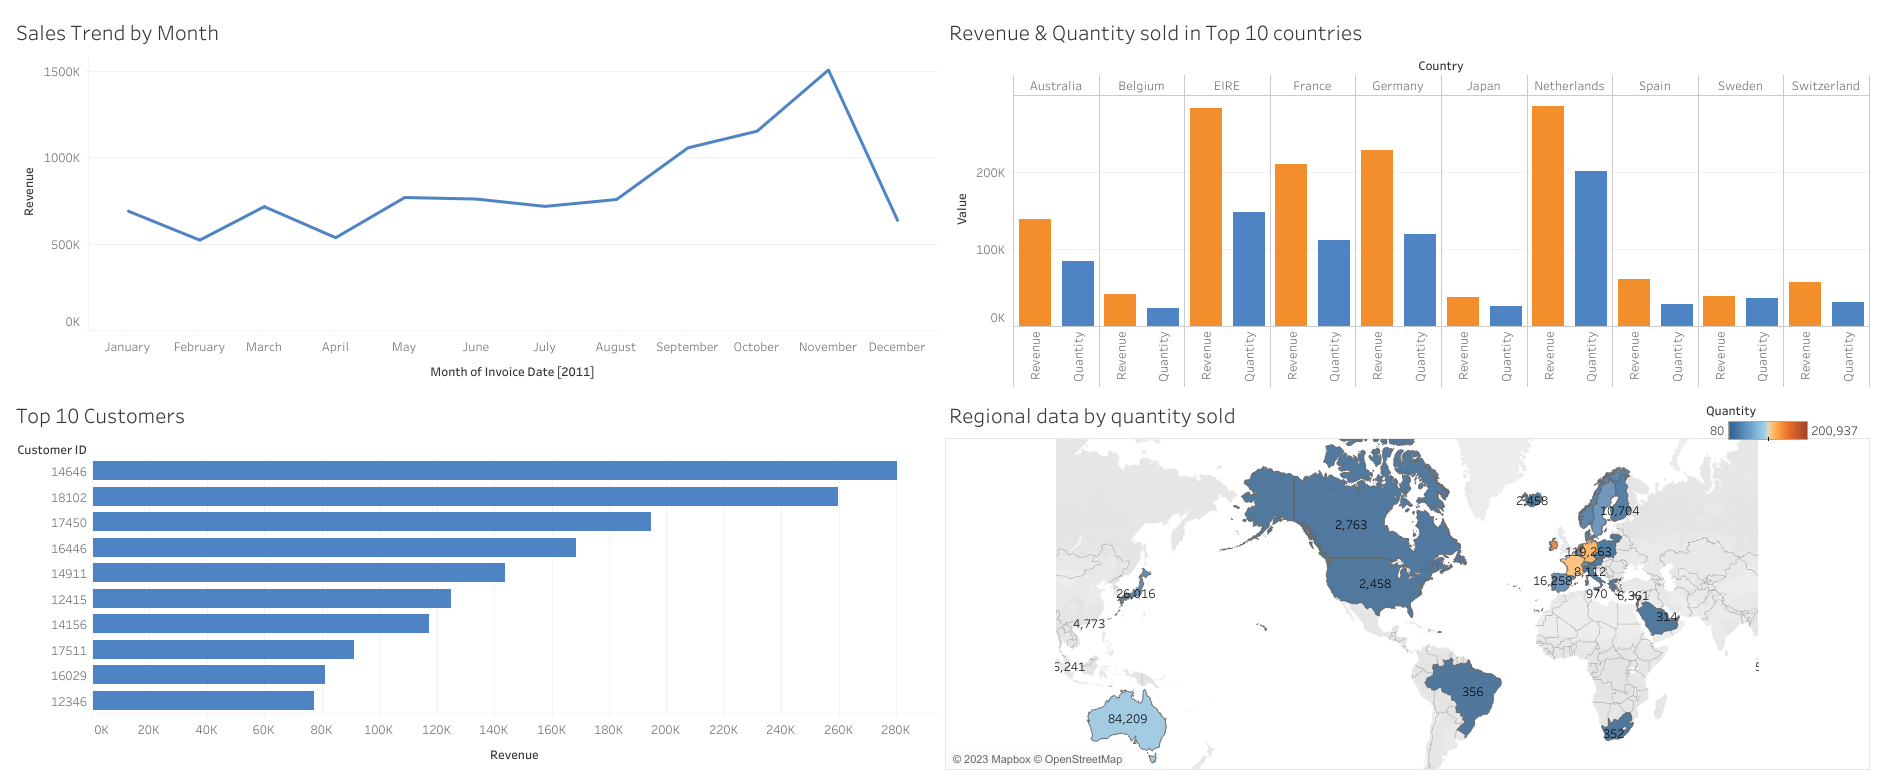

The dashboard page shown, as its layout file describes it:
{"tool":"tableau","page":{"name":"Dashboard 1","canvas":[1000,1000],"units":"permille","ordinal":0},"visuals":[{"type":"worksheet","title":"Question 1","mark":"Automatic","rows":["Calculation_622904190158856193"],"cols":["InvoiceDate"],"box":[4.8,9.4,495.2,490.6]},{"type":"worksheet","title":"Question 2","mark":"Automatic","cols":["Country"],"box":[500,9.4,495.2,490.6]},{"type":"worksheet","title":"Question 3","mark":"Automatic","rows":["CustomerID"],"cols":["Calculation_622904190158856193"],"box":[4.8,500,495.2,490.6]},{"type":"worksheet","title":"Question 4","mark":"Multipolygon","box":[500,500,495.2,490.6]},{"type":"legend","title":"Question 4","param":"[federated.1qtg65x0nwhhis1cew57405h1jh6].[sum:Quantity:qk]","box":[906.6,507.1,83.3,67.1]}]}

Visuals, with their boxes on the dashboard's canvas, which has no fixed pixel size, in thousandths of its width and height (x1, y1, x2, y2). These are canvas units, not pixel positions in the 1881x781 screenshot, which may show the page scaled, cropped or inside an application window:
"Question 1" worksheet: (left=5, top=9, right=500, bottom=500)
"Question 2" worksheet: (left=500, top=9, right=995, bottom=500)
"Question 3" worksheet: (left=5, top=500, right=500, bottom=991)
"Question 4" worksheet (Multipolygon marks): (left=500, top=500, right=995, bottom=991)
"Question 4" legend: (left=907, top=507, right=990, bottom=574)
